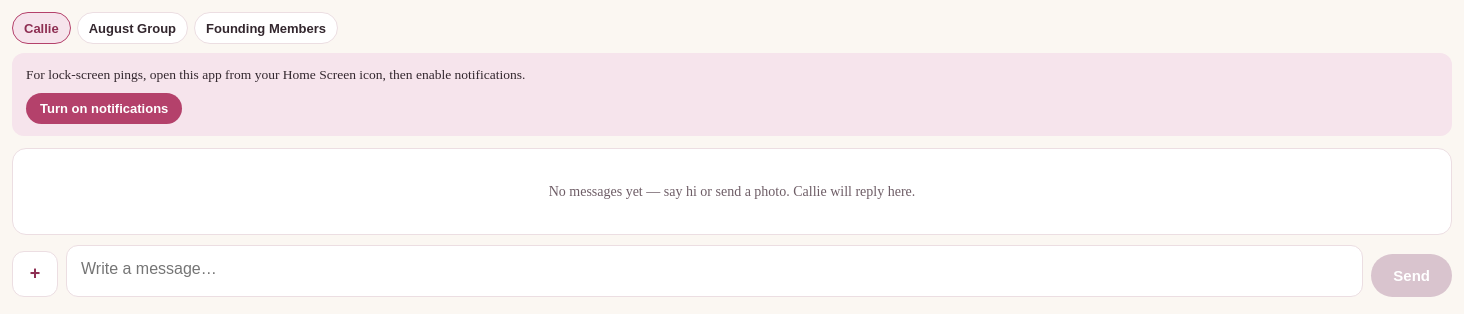
MessagesPanel chrome › scrolls conversation pills when an admin sees more than one group
Check: the button "Founding Members" is shown, box top-left (194, 12), bottom-right (338, 44)
Click the button "August Group" at [132, 28], box top-left (77, 12), bottom-right (188, 44)
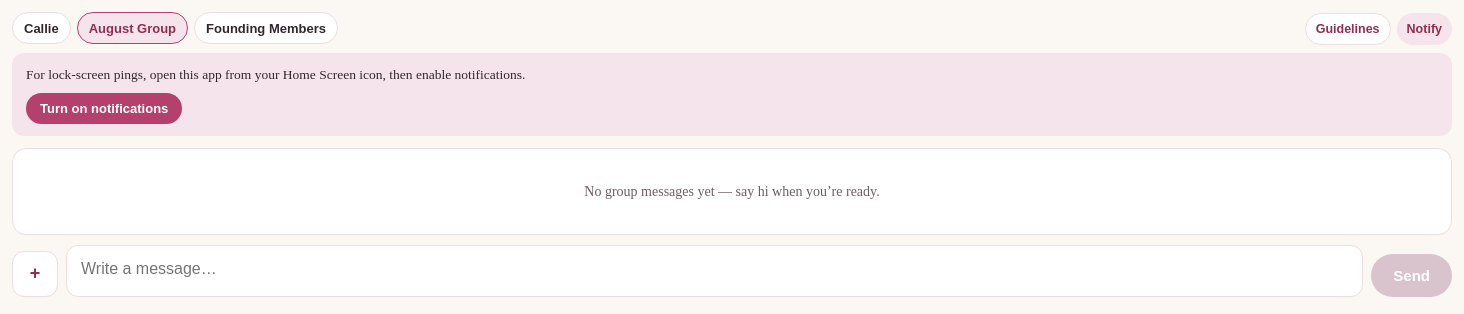
Check: the element showing "Guidelines Notify" is shown, box top-left (1305, 12), bottom-right (1452, 44)
